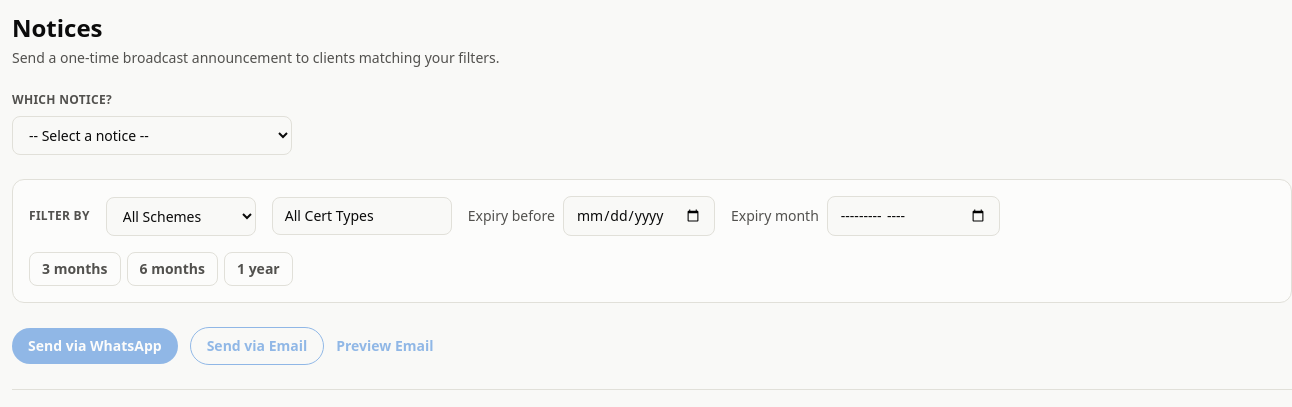
NoticesView › passes real cert-type options through to the filter dropdown
Check: the dropdown named "Which notice?" is shown, box [12,116,292,155]
Click the button with aria-label "Filter by certification type" at (362, 216), box [272,197,452,235]
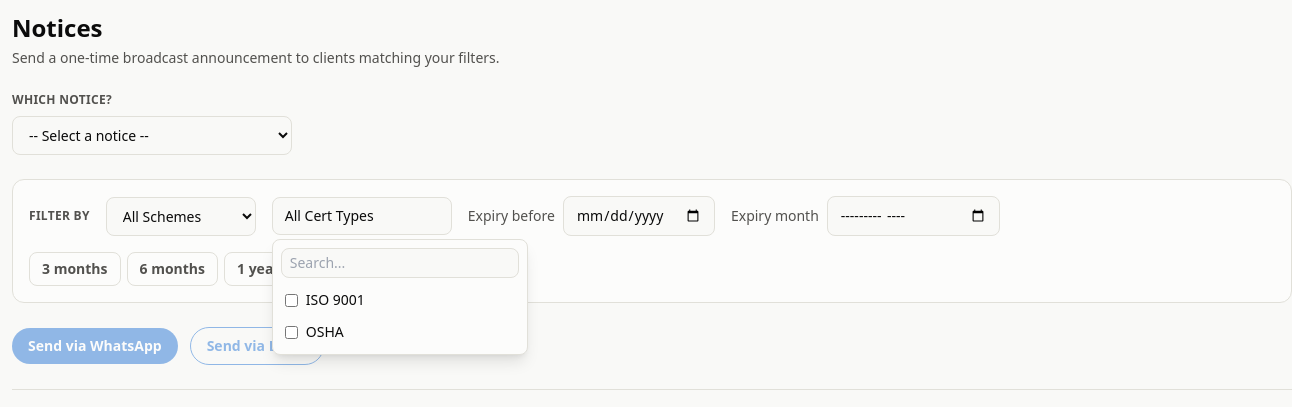
Check: the text "ISO 9001" is shown, box [285,290,365,309]
Check: the text "OSHA" is shown, box [285,322,344,341]
